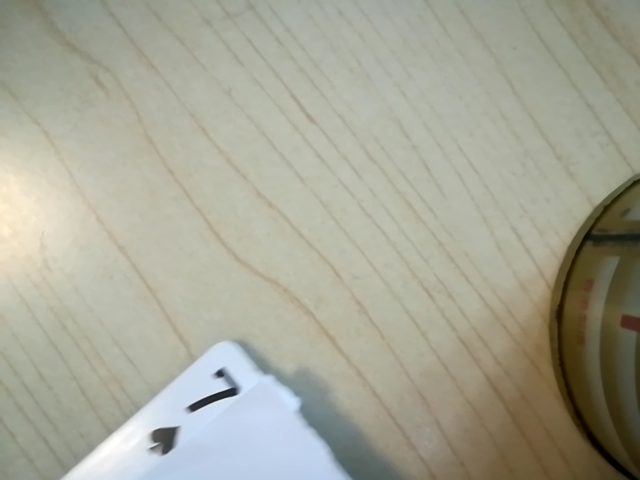ht 7: (102, 380, 250, 474)
